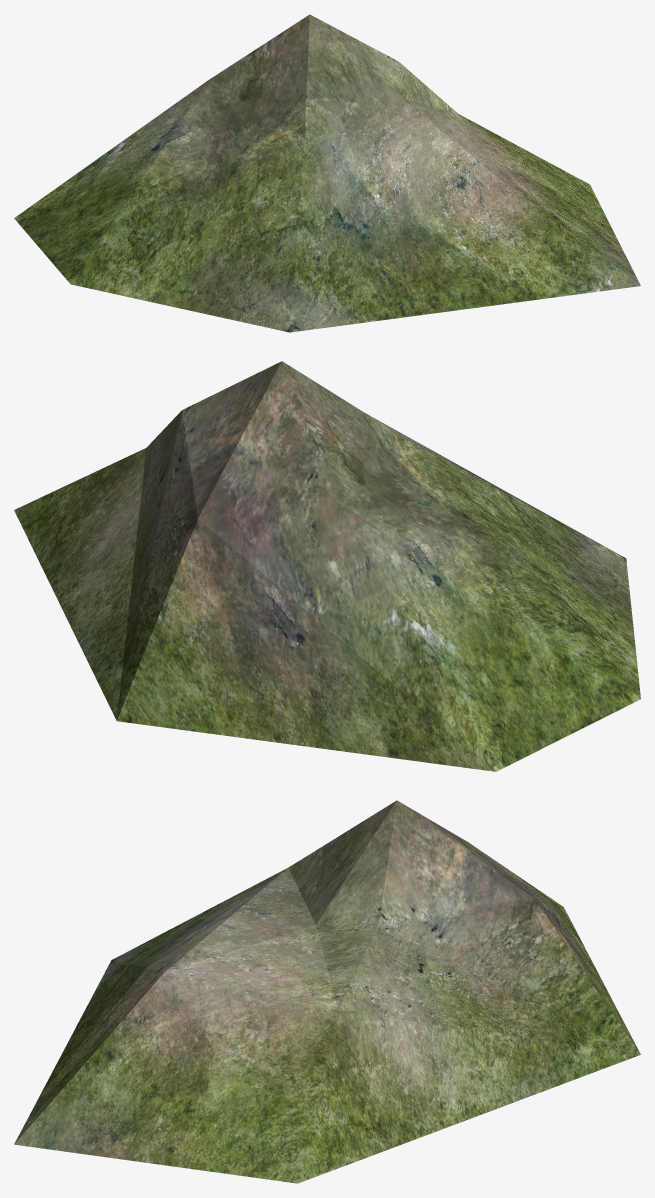
Rendered from hill_01.obj.
3 renders of one model, top to bottom at view 1: azimuth 30°, elevation 25°; view 2: azimuth 150°, elevation 25°; view 3: azimuth 270°, elevation 25°, orthographic. The views are drawn at different scales.
Parts seen in each view (by area): view 1: sat_obj_shan_0; view 2: sat_obj_shan_0; view 3: sat_obj_shan_0.
Part boxes in pixels (left/top/right/bottom): sat_obj_shan_0: left=14, top=14, right=640, bottom=332; sat_obj_shan_0: left=14, top=361, right=640, bottom=771; sat_obj_shan_0: left=14, top=800, right=640, bottom=1183.
Size of the model in its own units: 161 by 61.99 by 146.
